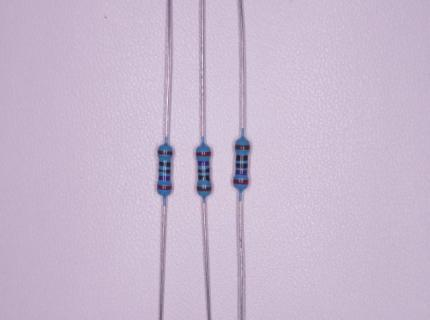Black band: (236, 155, 248, 161), (235, 163, 248, 168), (197, 168, 209, 173), (199, 175, 209, 181), (159, 161, 170, 166), (159, 169, 170, 174)
Brown band: (235, 144, 250, 150), (158, 150, 172, 155), (197, 186, 211, 191)
Red band: (233, 179, 248, 184), (157, 185, 171, 190), (196, 152, 210, 156)
Violet band: (158, 175, 170, 180), (236, 170, 248, 175), (198, 161, 209, 166)
